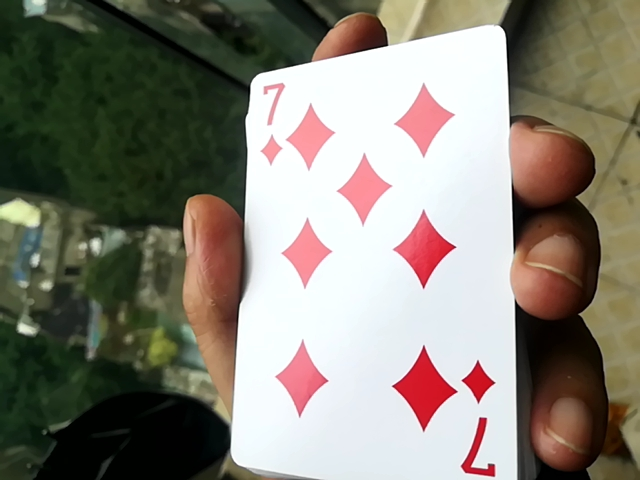fk 7: (221, 15, 504, 480)
